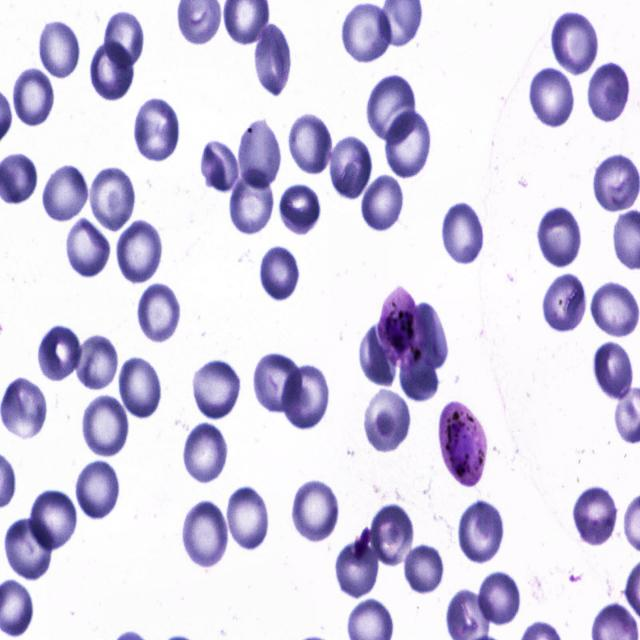red blood cell: (550, 8, 601, 78), (180, 498, 230, 569), (290, 476, 341, 545), (366, 75, 417, 144), (281, 363, 333, 428), (190, 359, 245, 419), (225, 484, 272, 554), (74, 457, 124, 522), (80, 394, 130, 459), (118, 352, 164, 422), (252, 353, 304, 414), (342, 3, 394, 64), (28, 488, 78, 551), (88, 38, 137, 102), (238, 118, 282, 189), (2, 520, 54, 580), (588, 278, 640, 338), (252, 22, 293, 98), (368, 499, 413, 568), (89, 167, 136, 233), (0, 378, 48, 442), (181, 422, 230, 484), (133, 99, 181, 162), (288, 111, 334, 176), (590, 153, 640, 212), (386, 112, 430, 179), (586, 60, 632, 124), (228, 171, 274, 235), (538, 203, 584, 267), (541, 271, 587, 334), (364, 389, 410, 452), (441, 202, 486, 266), (528, 67, 576, 127), (135, 283, 181, 345), (116, 220, 162, 282), (41, 165, 90, 222), (329, 136, 374, 198), (571, 488, 619, 546), (11, 67, 56, 128), (38, 19, 83, 80), (335, 538, 378, 601), (102, 10, 147, 69), (65, 219, 110, 278), (37, 322, 82, 380), (459, 503, 503, 562), (74, 336, 120, 390), (361, 174, 404, 231), (478, 570, 520, 627), (594, 339, 633, 400), (280, 184, 324, 238), (359, 324, 396, 387), (260, 245, 299, 302), (415, 301, 447, 370), (403, 539, 442, 594), (200, 140, 240, 193), (400, 351, 439, 402)
trophozoite: (438, 402, 488, 487), (378, 285, 424, 370)
